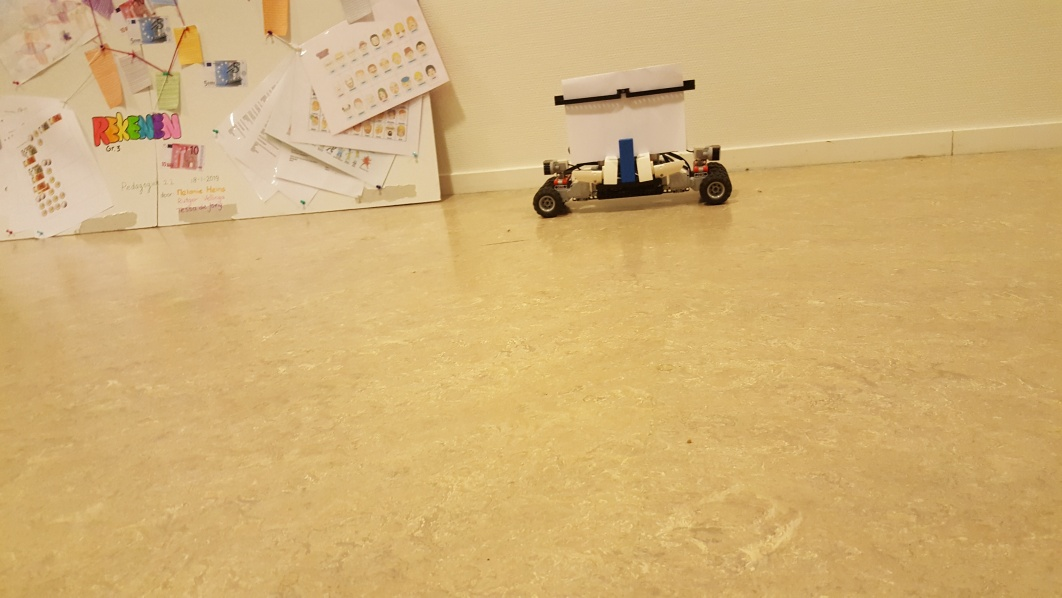beam: (616, 135, 636, 189)
